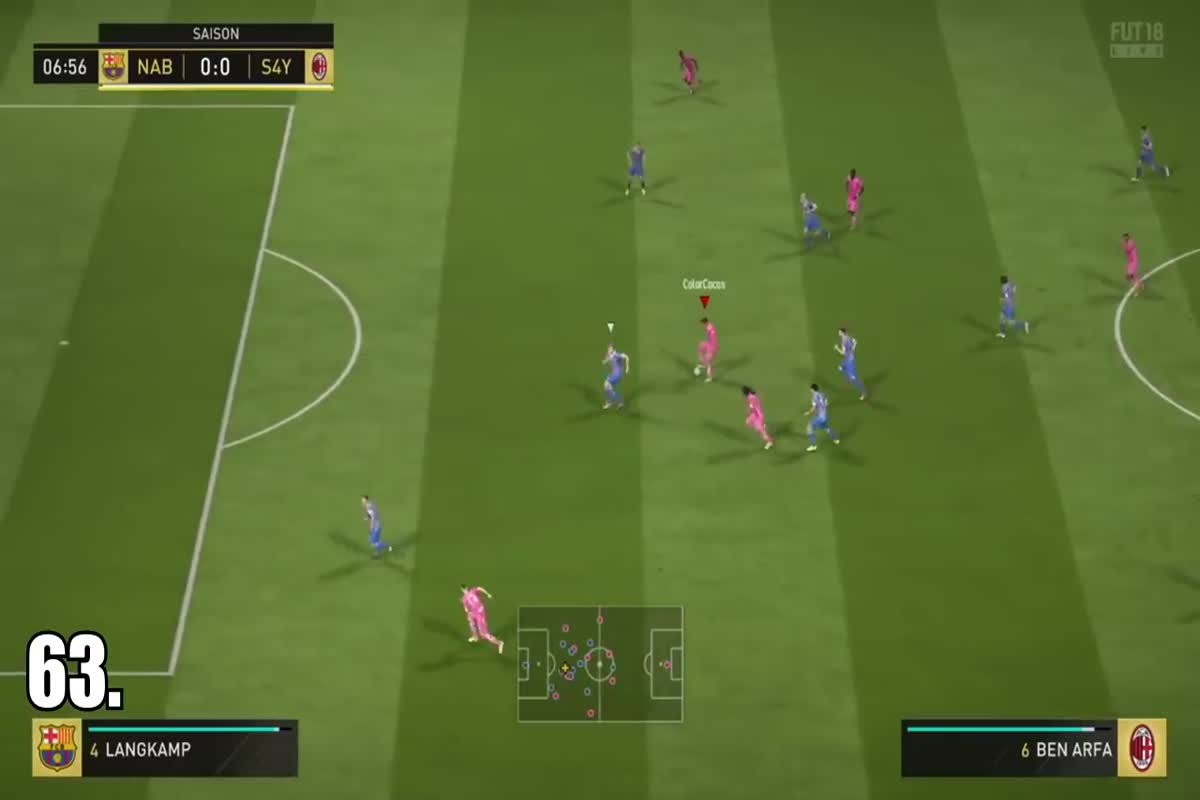ball: (687, 366, 706, 378)
